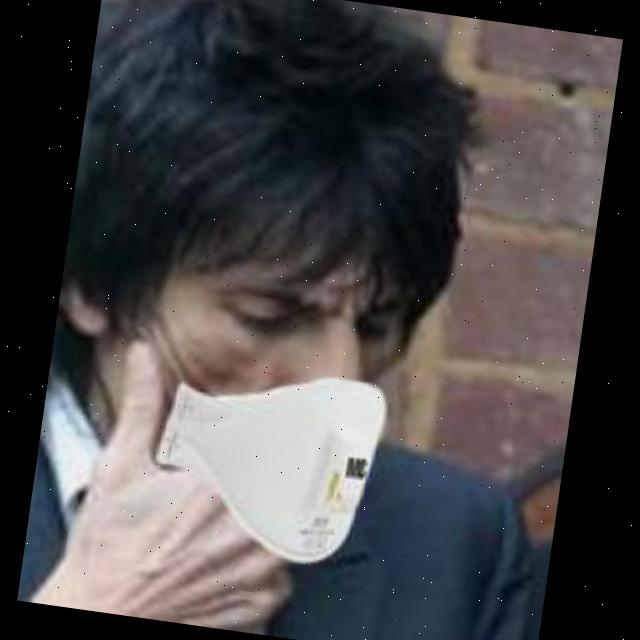suspicion: (110, 109, 467, 566)
